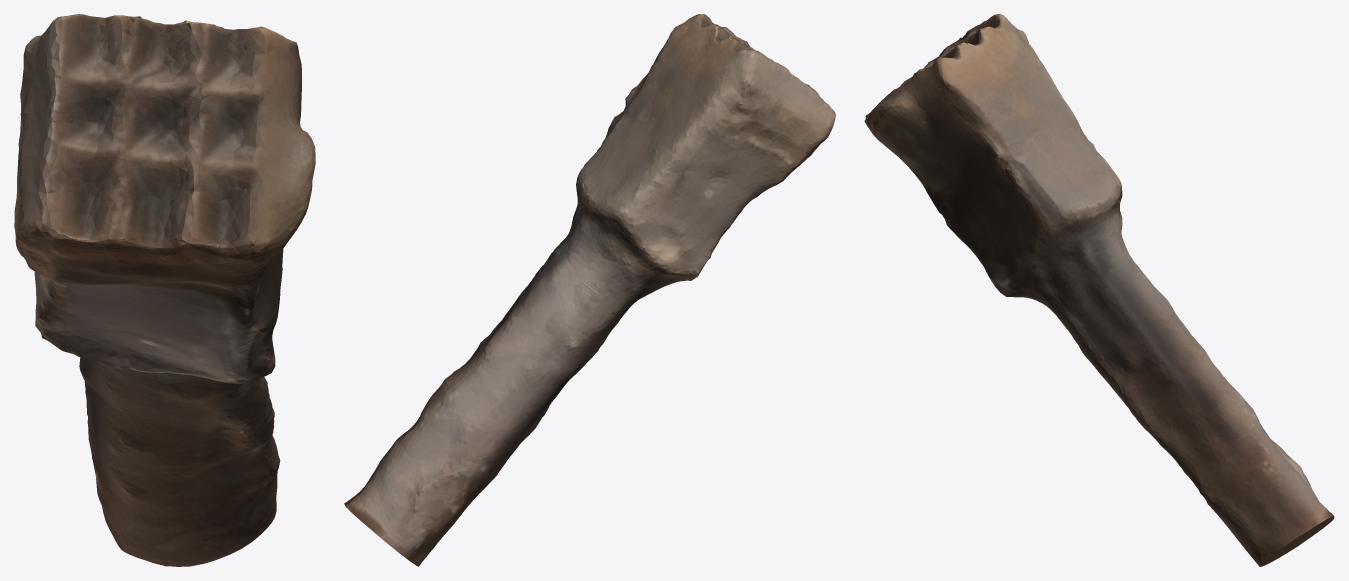
File: MashBit.dae
The picture shows the model from 3 angles, left to right: view 1: azimuth 30°, elevation 25°; view 2: azimuth 150°, elevation 25°; view 3: azimuth 270°, elevation 25°; orthographic projection. The views are drawn at different scales.
Parts seen in each view (by area): view 1: Polygonal_Model_1_Triangles_1, Polygonal_Model_1_Triangles_3, Polygonal_Model_1_Triangles_2; view 2: Polygonal_Model_1_Triangles_1; view 3: Polygonal_Model_1_Triangles_1, Polygonal_Model_1_Triangles_3.
Boxes of the visible parts, box(x1,y1,x2,y2) form: Polygonal_Model_1_Triangles_1: box(14, 14, 315, 565); Polygonal_Model_1_Triangles_3: box(44, 15, 315, 494); Polygonal_Model_1_Triangles_2: box(52, 26, 274, 566); Polygonal_Model_1_Triangles_1: box(344, 14, 835, 566); Polygonal_Model_1_Triangles_1: box(864, 14, 1334, 566); Polygonal_Model_1_Triangles_3: box(865, 14, 1249, 529).
Bounding box in the file's own units: 0.5697 × 0.7617 × 0.8034.
Materials: 3 (3 with a texture image).
